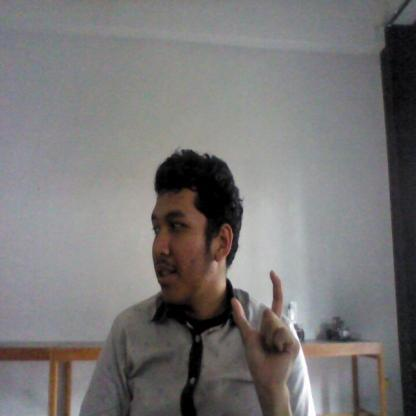U: (230, 268, 304, 386)
